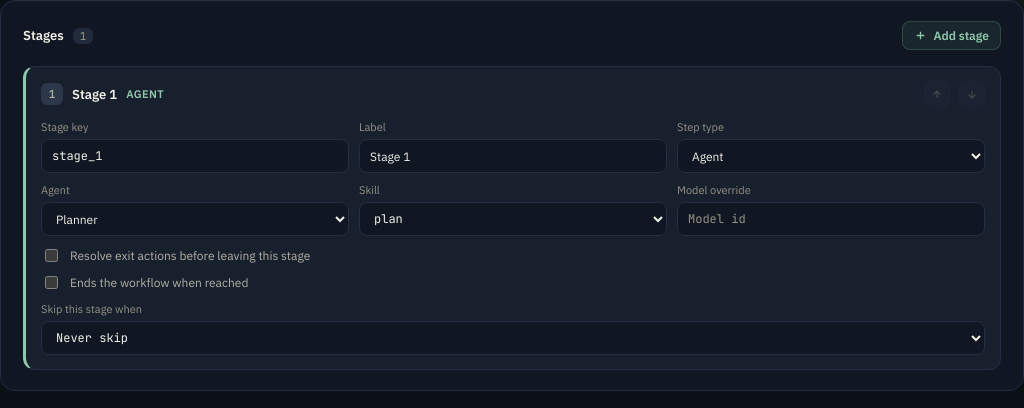
Test: editing a stage › writes a renamed stage back through the setter
Replace the text in the field showing "Stage 1" with "Triage" at (513, 156), box [359,139,667,173]
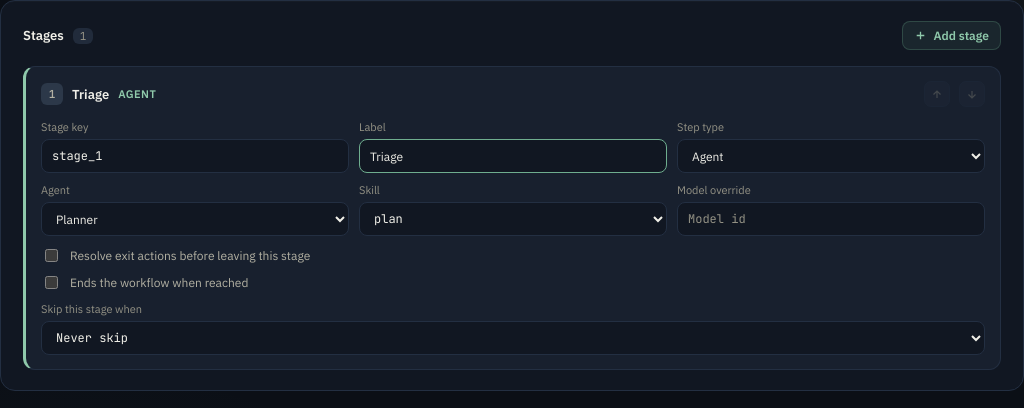
Now the text "Triage" is shown, box [72,86,109,102]
